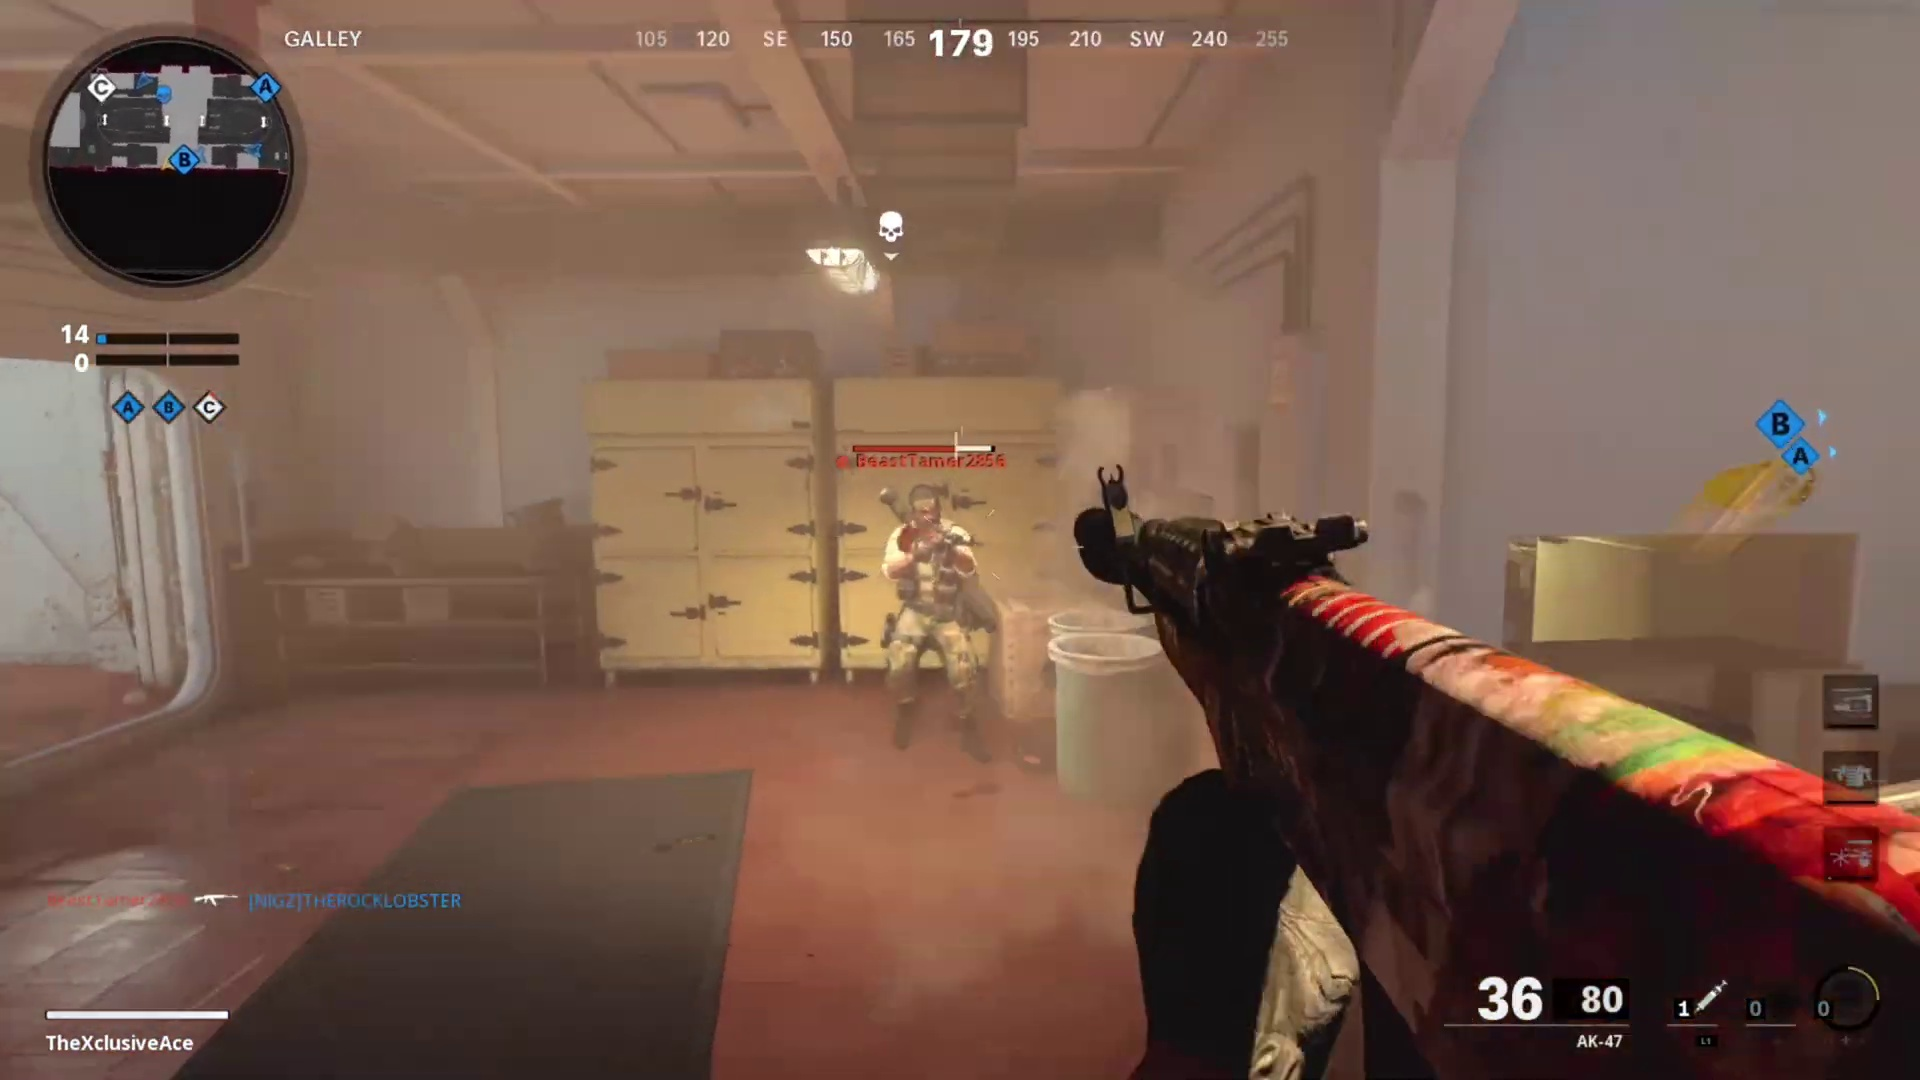head: (904, 482, 946, 543)
person: (877, 477, 997, 759)
